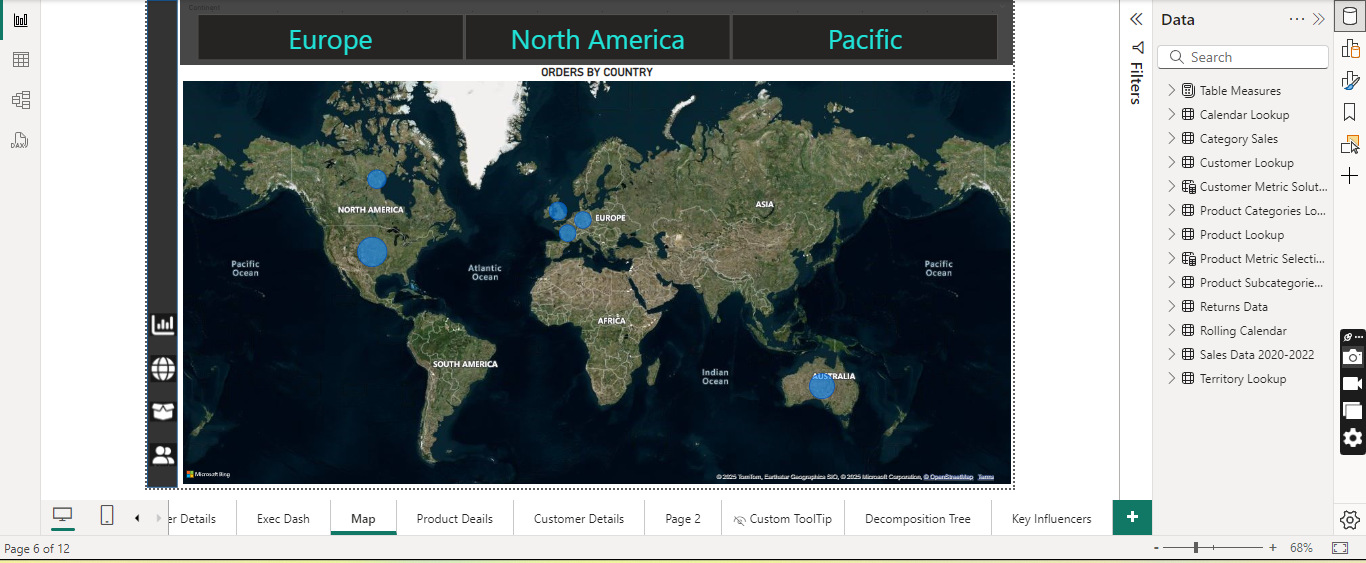

Layout of this report page (visuals, bound fields, positions):
{"tool":"powerbi","page":{"name":"Map","canvas":[1280,720],"ordinal":5},"visuals":[{"type":"shape","title":"Left Nav Bar","box":[0,0,45,720],"z":0},{"type":"map","title":"ORDERS BY COUNTRY","fields":{"Category":["Territory Lookup.Country"],"Size":["Table Measures.Total Orders"]},"box":[48,96,1232,624],"z":1000},{"type":"actionButton","box":[0,448,48,64],"z":2000},{"type":"slicer","fields":{"Values":["Territory Lookup.Continent"]},"box":[48,0,1232,96],"z":3000},{"type":"actionButton","box":[0,512,48,64],"z":4000},{"type":"actionButton","box":[0,576,48,64],"z":5000},{"type":"actionButton","box":[0,640,48,64],"z":6000}]}

Visuals, with their boxes on the page's 1280x720 design canvas (x1, y1, x2, y2). These are canvas units, not pixel positions in the 1366x563 screenshot, which may show the page scaled, cropped or inside an application window:
"Left Nav Bar" shape: 0:0:45:720
"ORDERS BY COUNTRY" map: 48:96:1280:720
actionButton: 0:448:48:512
slicer - Territory Lookup.Continent: 48:0:1280:96
actionButton: 0:512:48:576
actionButton: 0:576:48:640
actionButton: 0:640:48:704
